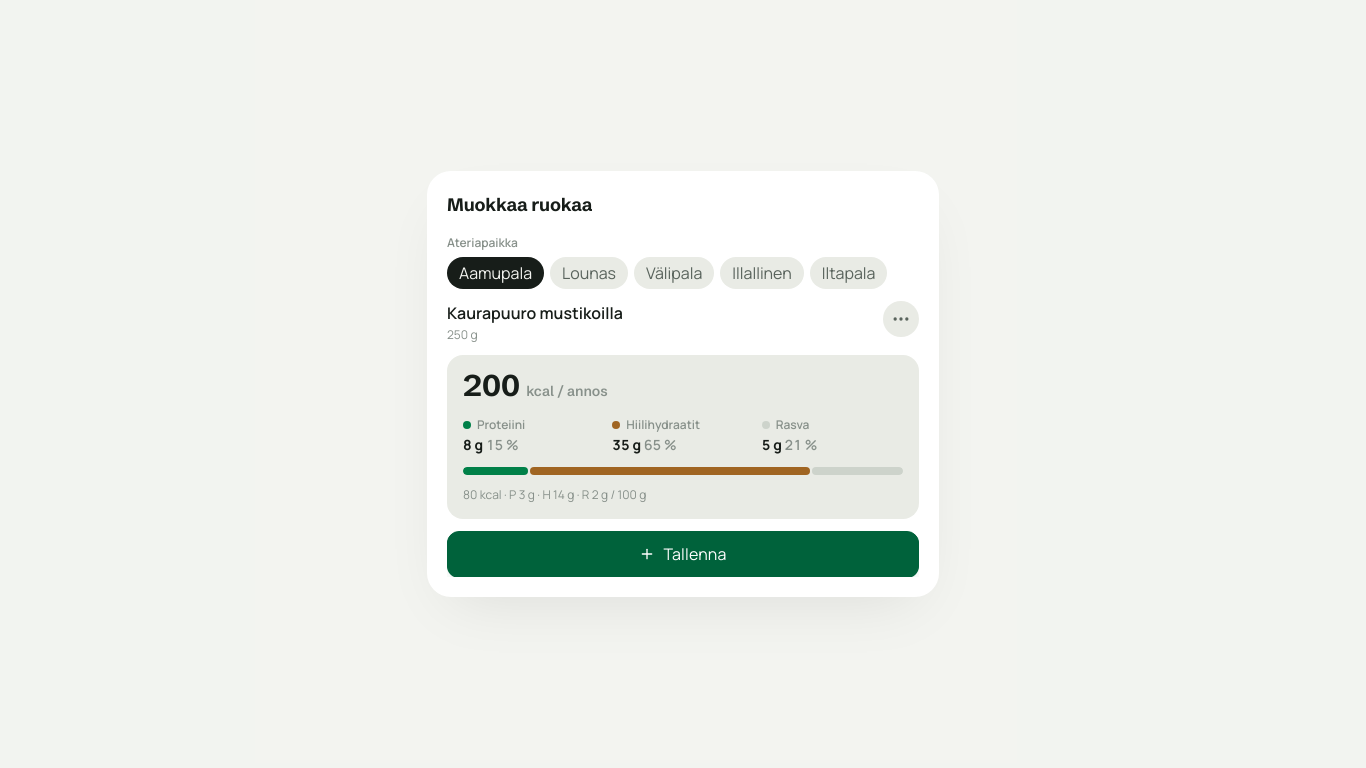
Scenario: FoodEntryEditSheet › nimen muokkaus avautuu valikosta ja muutos vaihtaa tallennuksen AI-uudelleenarvioksi
Click the button named "Avaa muokkausvalinnat" at x=901, y=319, box [883,301,919,337]
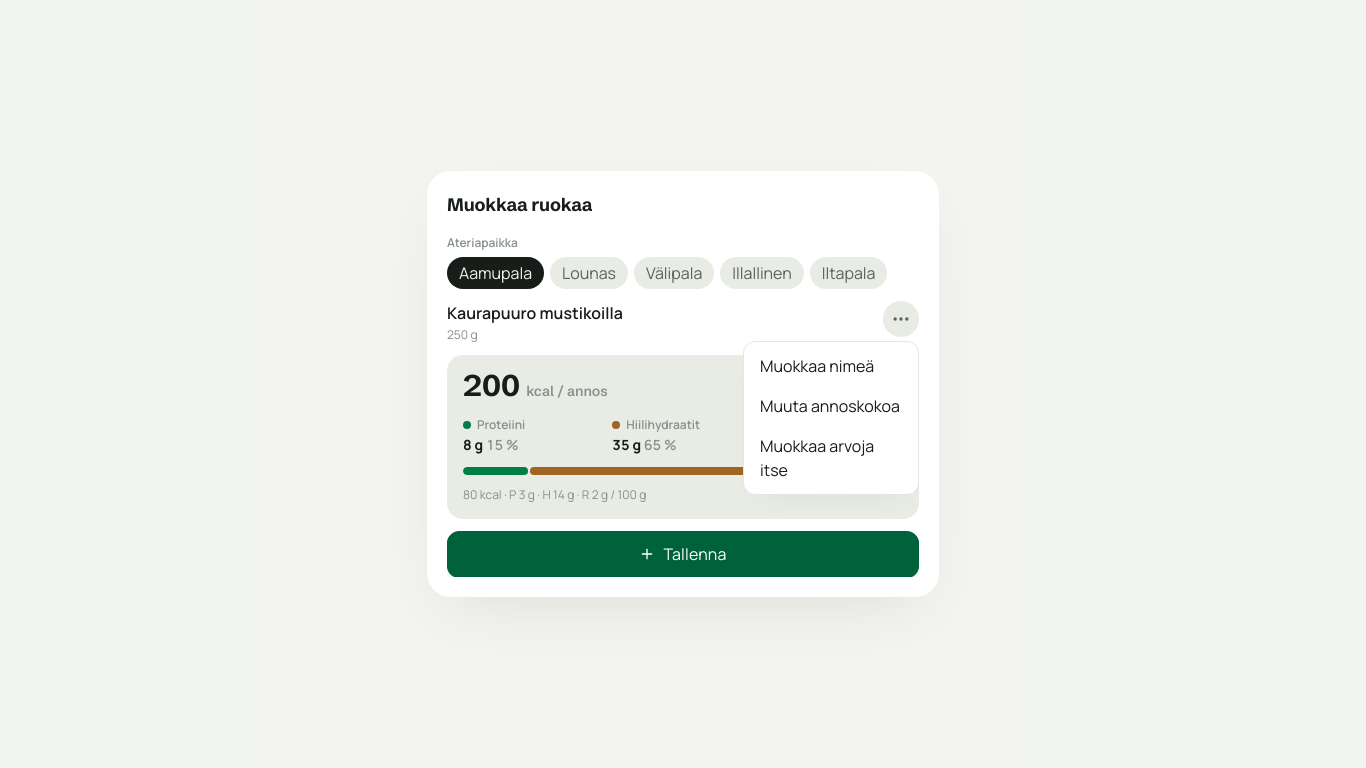
Click the menu item "Muokkaa nimeä" at x=831, y=366, box [748,346,914,386]
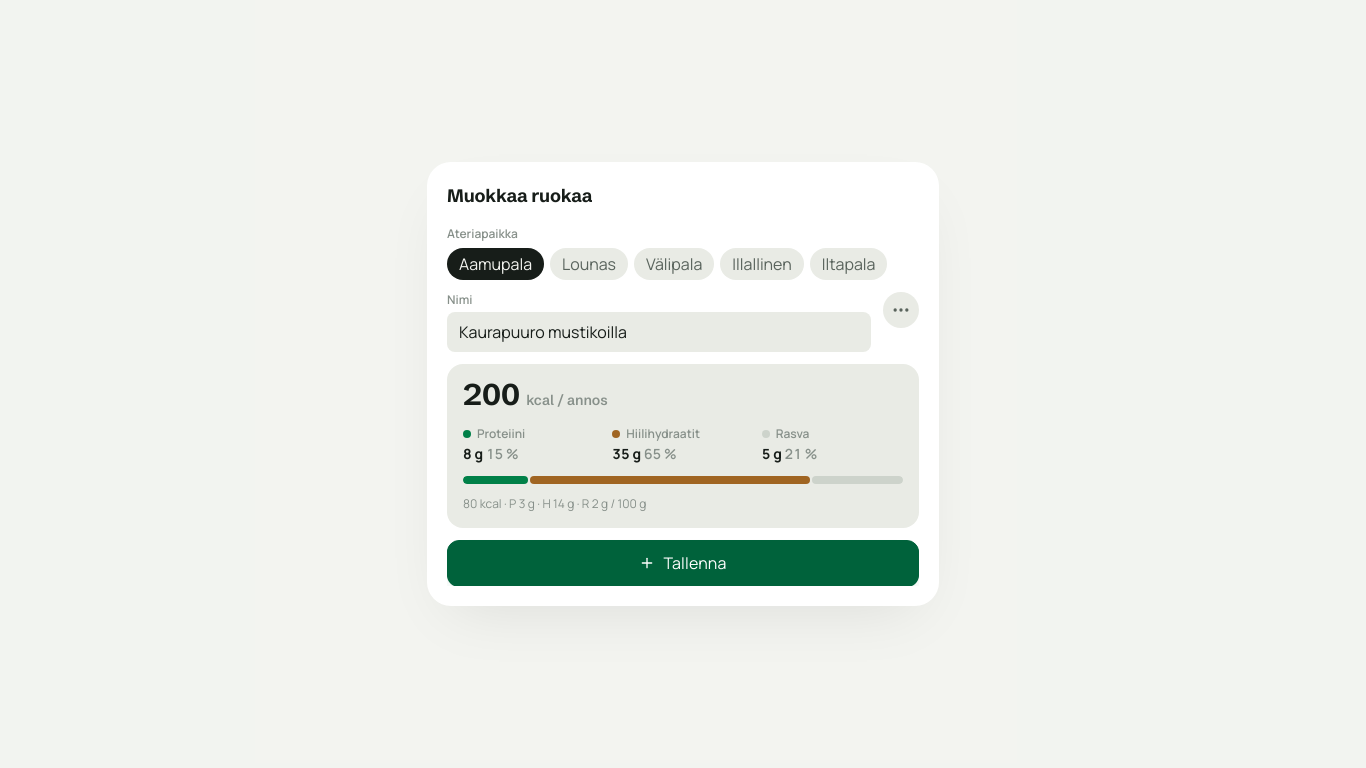
Replace the text in the field showing "Kaurapuuro mustikoilla" with "Kaurapuuro ja banaani" at x=659, y=332, box [447,312,871,352]
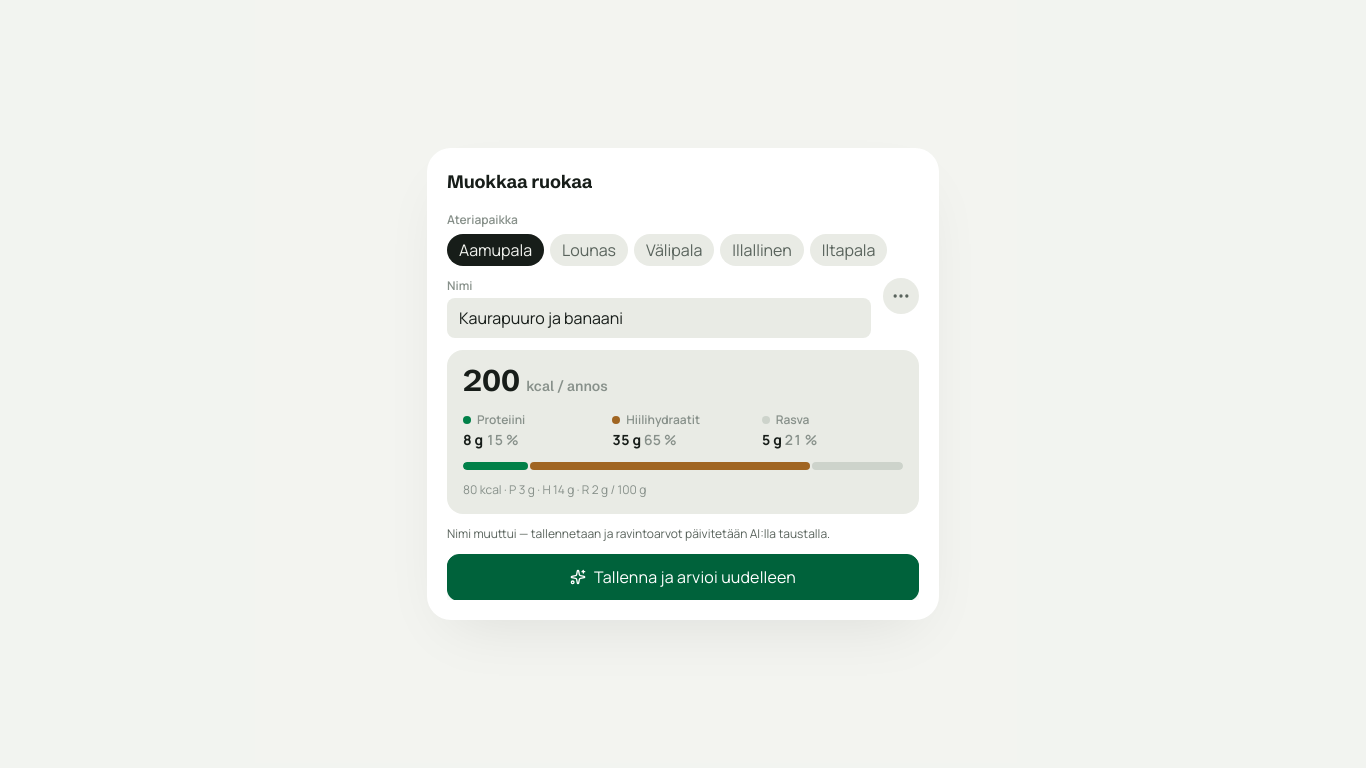
Now the button "Tallenna ja arvioi uudelleen" is shown, box [447,554,919,600]
